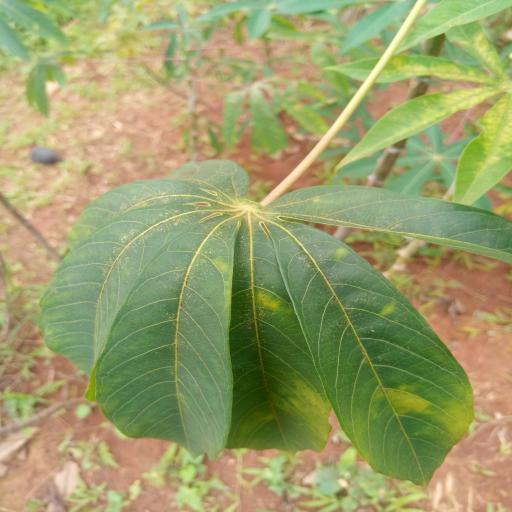Cassava_Mosaic: (37, 154, 512, 496)
